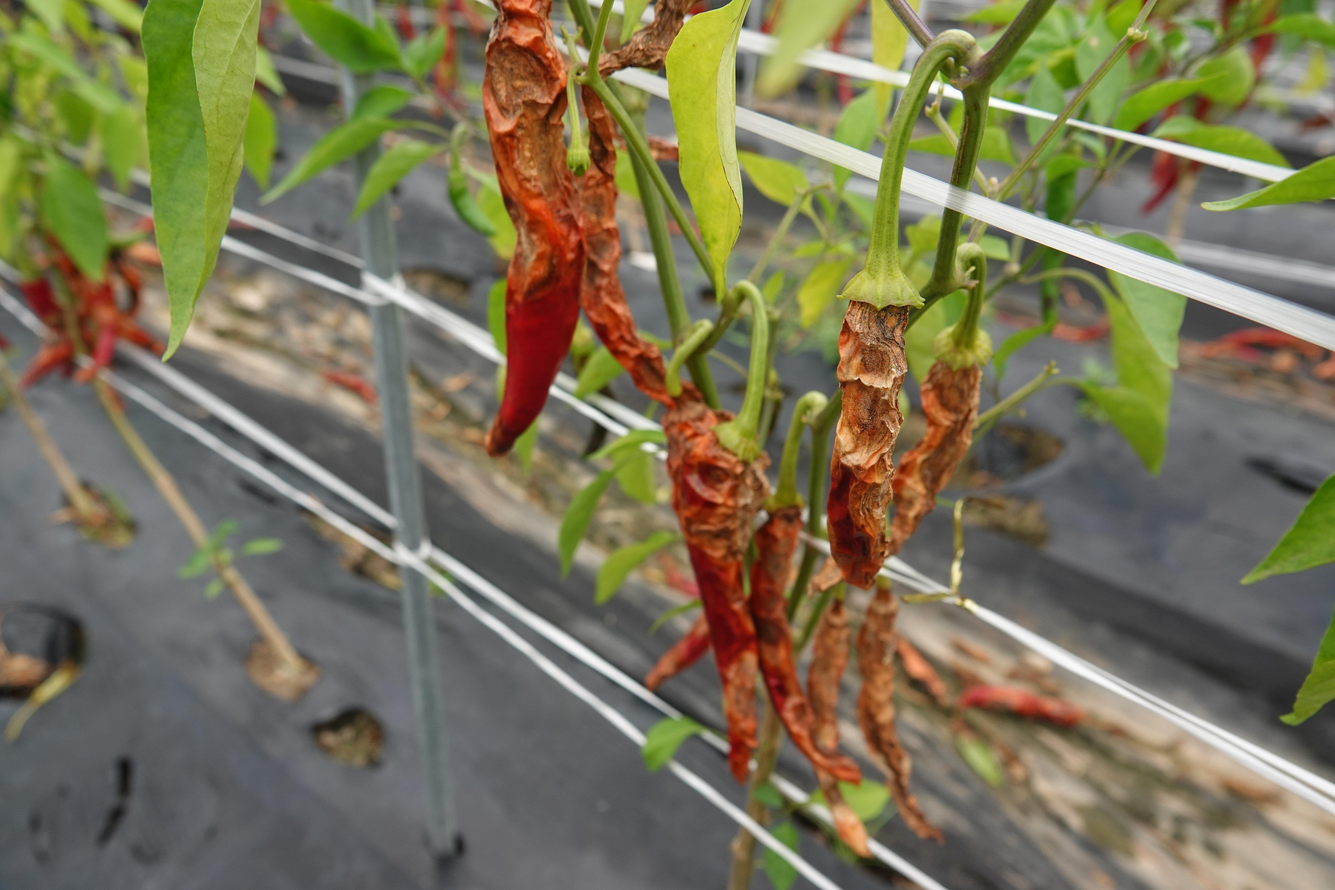Busuk Buah Antraknosa: (477, 2, 586, 458), (678, 413, 776, 786), (820, 272, 924, 587)
